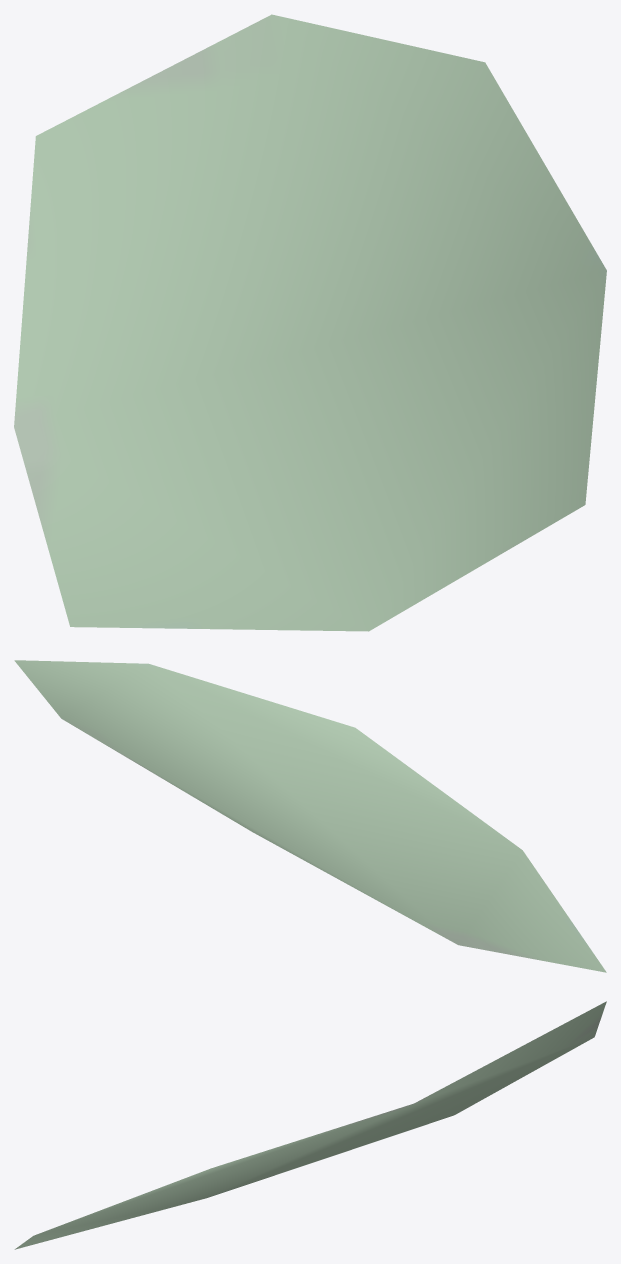
File: TROLLHOLE02_HOLECAP181.fbx
3 renders of one model, top to bottom at view 1: azimuth 30°, elevation 25°; view 2: azimuth 150°, elevation 25°; view 3: azimuth 270°, elevation 25°, orthographic. The views are drawn at different scales.
Parts seen in each view (by area): view 1: TROLLHOLE02_HOLECAP181; view 2: TROLLHOLE02_HOLECAP181; view 3: TROLLHOLE02_HOLECAP181.
Part boxes in pixels (bbox=[...]): TROLLHOLE02_HOLECAP181: bbox=[14, 14, 606, 631]; TROLLHOLE02_HOLECAP181: bbox=[14, 660, 606, 972]; TROLLHOLE02_HOLECAP181: bbox=[14, 1001, 606, 1249].
Size of the model in its own units: 22103 by 13462 by 23206.
Materials: 1 (1 with a texture image).
